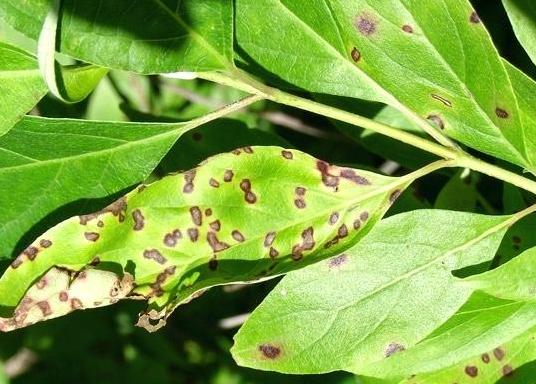Tomato leaf bacterial spot: (0, 136, 418, 350), (215, 209, 502, 384)
